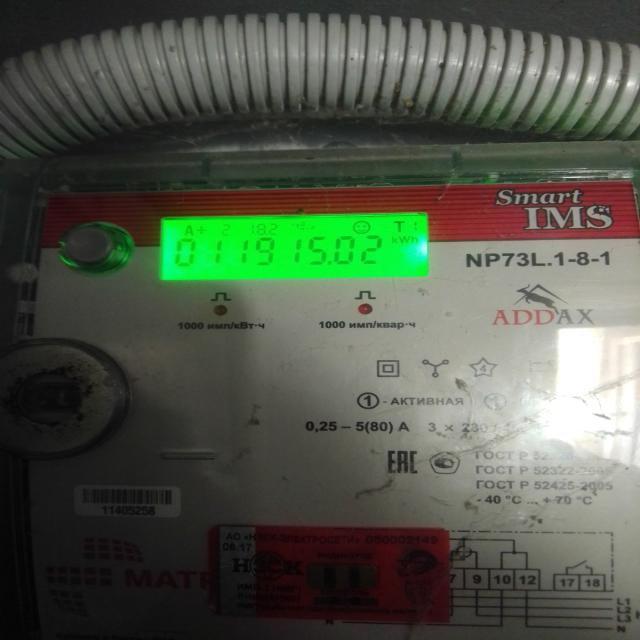Display: (164, 216, 430, 280)
meter_matrica: (23, 185, 640, 640)
meter_number: (69, 476, 187, 524)
seal_imp: (204, 522, 451, 624)
